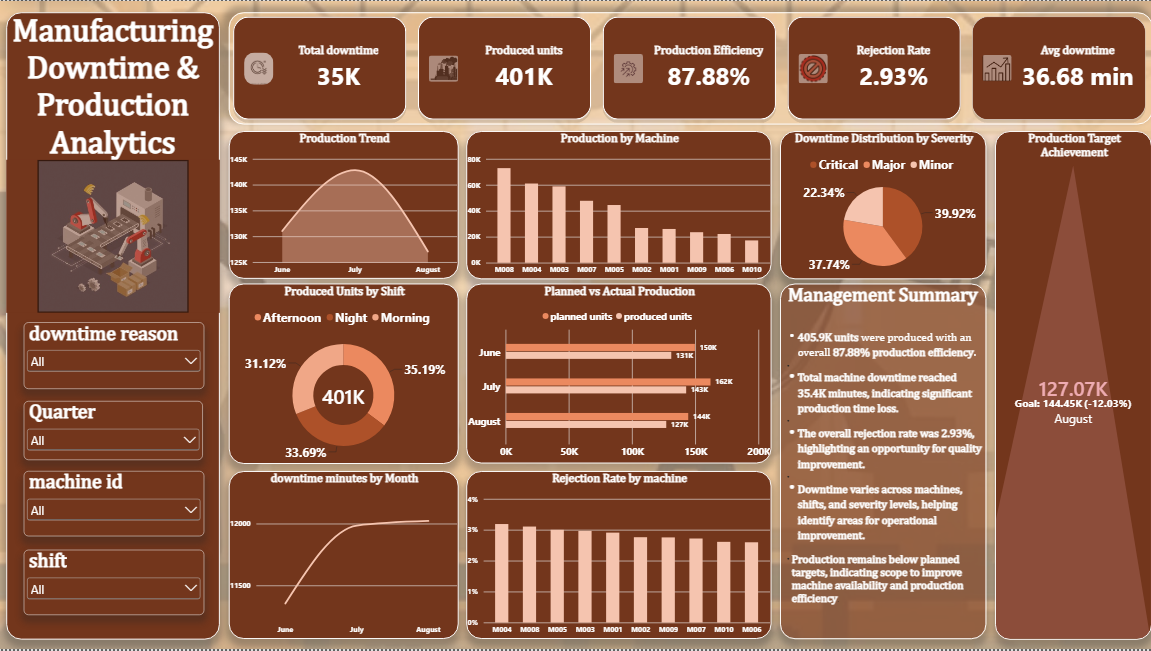

The dashboard page shown, as its layout file describes it:
{"tool":"powerbi","page":{"name":"Page 1","canvas":[1920,1080],"ordinal":0},"visuals":[{"type":"textbox","box":[10.3,18.5,356.1,1045.6],"z":0},{"type":"cardVisual","fields":{"Data":["Sum(mfg_downtime_analytics machine_downtime.downtime_minutes)","Sum(mfg_downtime_analytics production_log.produced_units)","machine_downtime.Production Efficiency","machine_downtime.Rejection Rate","machine_downtime.avg_downtime"]},"box":[380.8,18.5,1539.6,187],"z":1000},{"type":"areaChart","title":"Production Trend","fields":{"Category":["production_log.production_date.Variation.Date Hierarchy.Month"],"Y":["Sum(production_log.produced_units)"]},"box":[380.8,216.1,382.8,246],"z":2000},{"type":"clusteredColumnChart","title":"Production by Machine","fields":{"Category":["machine_downtime.machine_id"],"Y":["Sum(production_log.produced_units)"]},"box":[778,216.1,508.4,247],"z":3000},{"type":"clusteredBarChart","title":"Planned vs Actual Production","fields":{"Category":["production_log.production_date.Variation.Date Hierarchy.Month"],"Y":["Sum(production_log.planned_units)","Sum(production_log.produced_units)"]},"box":[778,471.4,508.4,300],"z":4000},{"type":"kpi","title":"Production Target Achievement","fields":{"Goal":["Sum(production_log.planned_units)"],"Indicator":["Sum(production_log.produced_units)"],"TrendLine":["production_log.production_date.Variation.Date Hierarchy.Month"]},"box":[1659,216.1,261.4,848],"z":5000},{"type":"pieChart","title":"Downtime Distribution by Severity","fields":{"Category":["machine_downtime.severity"],"Y":["Sum(machine_downtime.downtime_minutes)"]},"box":[1300.9,216.1,343.7,247],"z":6000},{"type":"donutChart","title":"Produced Units by Shift","fields":{"Category":["production_log.shift"],"Y":["Sum(production_log.produced_units)"]},"box":[380.8,471.4,382.8,300.5],"z":7000},{"type":"slicer","fields":{"Values":["machine_downtime.machine_id"]},"box":[39.1,784.2,300.5,109.1],"z":8000},{"type":"slicer","fields":{"Values":["production_log.shift"]},"box":[39.1,913.9,300.5,109.1],"z":9000},{"type":"slicer","fields":{"Values":["machine_downtime.downtime_reason"]},"box":[39.1,535.2,300.5,111.1],"z":11000},{"type":"image","box":[10.3,265.5,356.1,255.2],"z":12000},{"type":"slicer","fields":{"Values":["production_log.production_date.Variation.Date Hierarchy.Quarter"]},"box":[39.1,666.9,298.5,98.8],"z":13000},{"type":"lineChart","fields":{"Category":["machine_downtime.downtime_date.Variation.Date Hierarchy.Month"],"Y":["Sum(machine_downtime.downtime_minutes)"]},"box":[380.8,784.2,382.8,279.9],"z":13001},{"type":"columnChart","fields":{"Category":["machine_downtime.machine_id"],"Y":["machine_downtime.Rejection Rate"]},"box":[778,784.2,508.4,279.9],"z":13002},{"type":"textbox","box":[1300.9,471.4,343.7,592.8],"z":13003}]}

Visuals, with their boxes in screenshot pixels (x1, y1, x2, y2), scaled from the page's 1920x1080 canvas onto the 1151x651 screenshot:
textbox: crop(6, 11, 220, 641)
cardVisual - Sum(mfg_downtime_analytics machine_downtime.downtime_minutes) x Sum(mfg_downtime_analytics production_log.produced_units): crop(228, 11, 1150, 124)
"Production Trend" areaChart: crop(228, 130, 458, 279)
"Production by Machine" clusteredColumnChart: crop(466, 130, 771, 279)
"Planned vs Actual Production" clusteredBarChart: crop(466, 284, 771, 465)
"Production Target Achievement" kpi: crop(995, 130, 1150, 641)
"Downtime Distribution by Severity" pieChart: crop(780, 130, 986, 279)
"Produced Units by Shift" donutChart: crop(228, 284, 458, 465)
slicer - machine_downtime.machine_id: crop(23, 473, 204, 538)
slicer - production_log.shift: crop(23, 551, 204, 617)
slicer - machine_downtime.downtime_reason: crop(23, 323, 204, 390)
image: crop(6, 160, 220, 314)
slicer - production_log.production_date.Variation.Date Hierarchy.Quarter: crop(23, 402, 202, 462)
lineChart - machine_downtime.downtime_date.Variation.Date Hierarchy.Month x Sum(machine_downtime.downtime_minutes): crop(228, 473, 458, 641)
columnChart - machine_downtime.machine_id x machine_downtime.Rejection Rate: crop(466, 473, 771, 641)
textbox: crop(780, 284, 986, 641)
